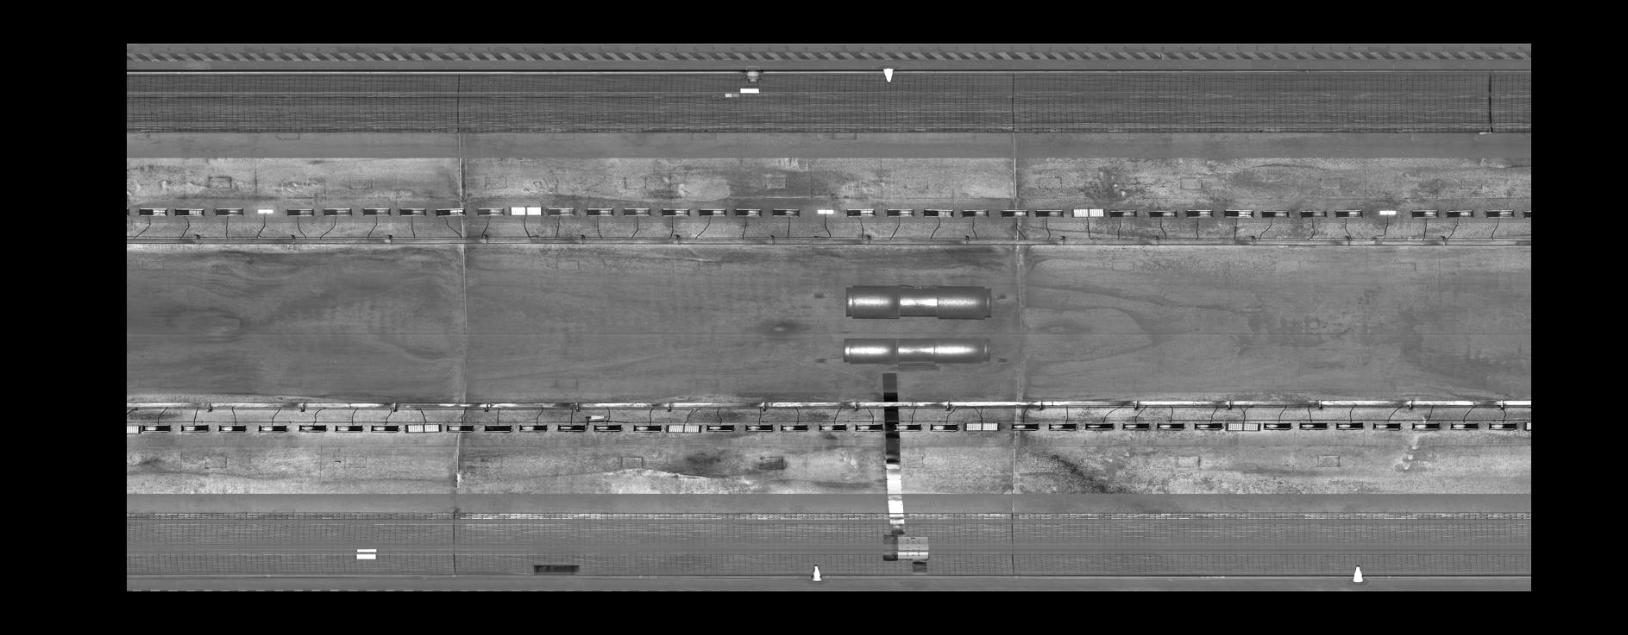light: (402, 422, 443, 435), (1221, 208, 1257, 221), (1223, 420, 1261, 433), (964, 420, 1002, 433), (664, 422, 703, 435), (1069, 206, 1105, 220), (544, 204, 579, 218), (1033, 206, 1067, 220), (321, 204, 354, 218), (508, 204, 543, 217), (1258, 208, 1291, 221), (1184, 206, 1216, 220), (658, 205, 693, 218), (433, 205, 467, 218), (920, 208, 956, 219), (170, 206, 207, 218), (1483, 206, 1516, 219), (1146, 208, 1179, 220), (1106, 208, 1139, 220), (620, 205, 653, 218), (584, 205, 617, 218), (359, 205, 392, 218), (705, 420, 738, 433), (1331, 208, 1366, 219), (1408, 208, 1440, 220), (1298, 208, 1330, 220), (998, 206, 1030, 219), (959, 206, 992, 219), (743, 421, 776, 434), (555, 421, 588, 434), (135, 206, 169, 218), (1486, 419, 1520, 431), (884, 206, 917, 218), (696, 206, 729, 218), (891, 421, 924, 433), (481, 422, 514, 434), (443, 421, 477, 433), (295, 422, 331, 433), (213, 423, 249, 434), (1444, 208, 1476, 219), (732, 208, 764, 219), (473, 205, 506, 217), (397, 205, 429, 217), (211, 206, 246, 217), (331, 423, 367, 434), (177, 422, 212, 433), (284, 206, 316, 218), (1331, 420, 1365, 431), (1296, 420, 1330, 431), (1261, 419, 1293, 431), (853, 422, 885, 434), (255, 423, 290, 434), (844, 206, 877, 217), (1371, 420, 1404, 431), (1007, 421, 1040, 432), (631, 423, 664, 434), (592, 423, 625, 434), (1154, 420, 1186, 431), (816, 422, 848, 433), (778, 422, 810, 433), (369, 424, 401, 435), (1408, 421, 1443, 431), (1082, 421, 1117, 431), (929, 422, 960, 433), (1046, 421, 1080, 431), (516, 423, 550, 433), (140, 423, 174, 433), (768, 208, 802, 217), (1448, 421, 1482, 431), (1193, 421, 1225, 431), (1121, 421, 1151, 430), (1375, 208, 1400, 217), (252, 208, 277, 216), (814, 208, 835, 217), (1520, 206, 1530, 220), (126, 424, 140, 434), (1522, 417, 1530, 433)
